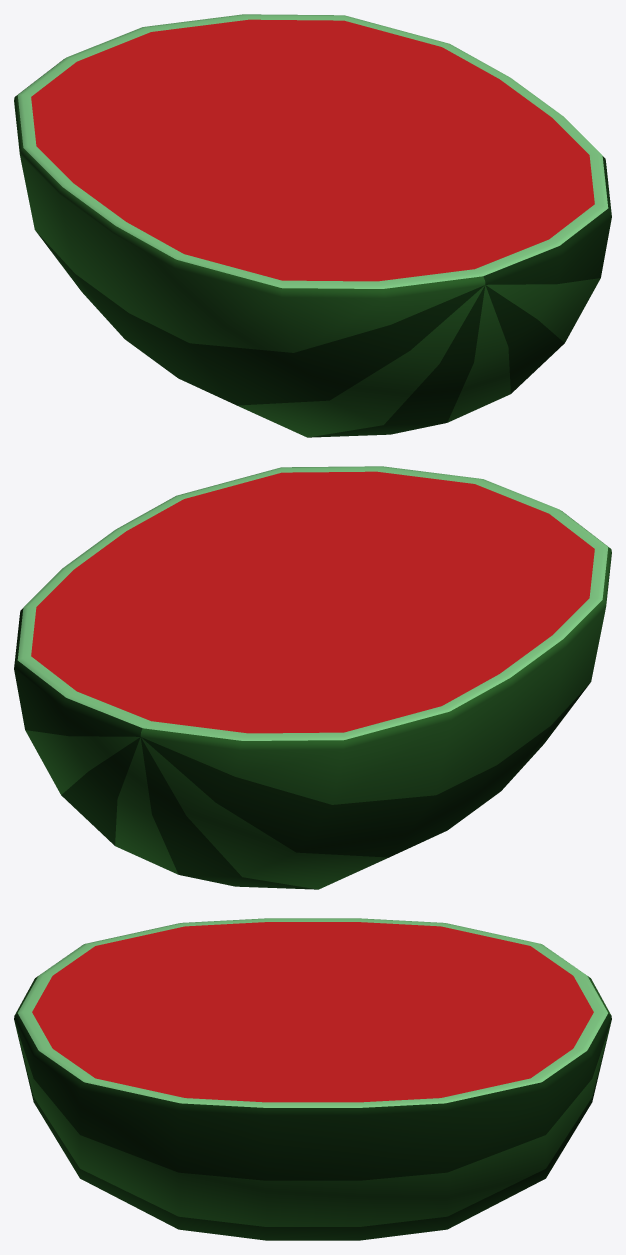
File: watermelon-half.obj
3 renders of one model, top to bottom at view 1: azimuth 30°, elevation 25°; view 2: azimuth 150°, elevation 25°; view 3: azimuth 270°, elevation 25°, orthographic. The views are drawn at different scales.
Visible parts, largest first — view 1: Watermelon_Sphere; view 2: Watermelon_Sphere; view 3: Watermelon_Sphere.
Part boxes in pixels (<box>): Watermelon_Sphere: <box>14,14,611,437</box>; Watermelon_Sphere: <box>14,466,611,889</box>; Watermelon_Sphere: <box>14,918,611,1240</box>.
Bounding box in the file's own units: 0.299 × 0.1506 × 0.3938.
